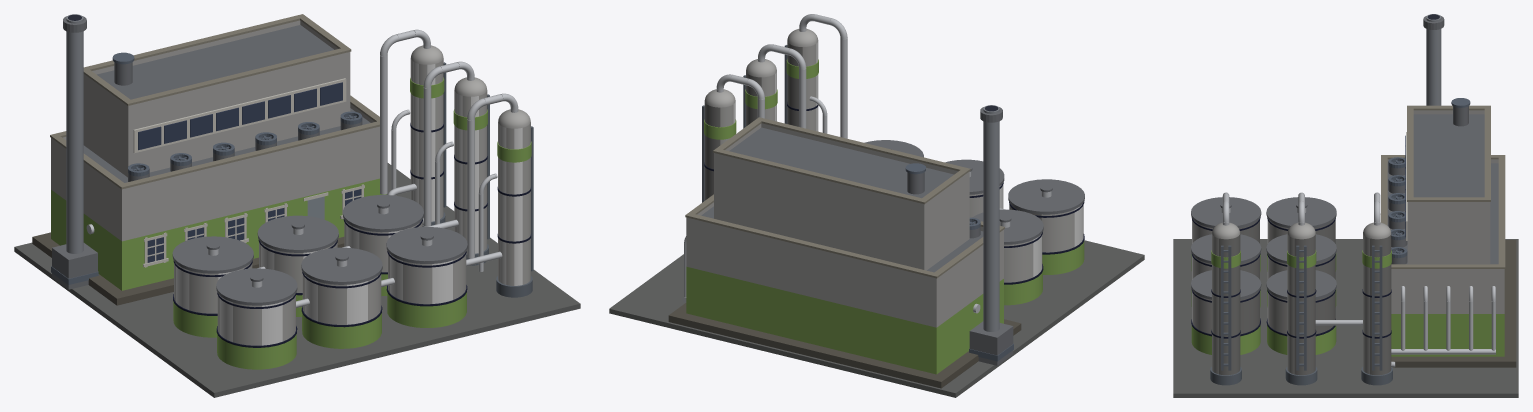
The model's file is chem_plant_lvl3.glb.
3 views of the same model, side by side, from view 1: azimuth 30°, elevation 25°; view 2: azimuth 150°, elevation 25°; view 3: azimuth 270°, elevation 25° (orthographic). The views are drawn at different scales.
Visible parts, largest first — view 1: chem_plant; view 2: chem_plant; view 3: chem_plant.
Part boxes in pixels (bbox=[...]): chem_plant: bbox=[14, 14, 580, 397]; chem_plant: bbox=[609, 14, 1144, 397]; chem_plant: bbox=[1173, 14, 1518, 397].
Bounding box in the file's own units: 1 × 0.6903 × 0.9349.
